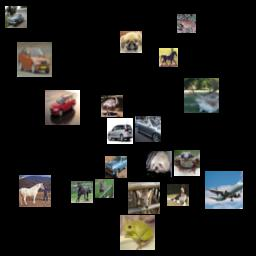airplane: (205, 171, 243, 209)
automobile: (45, 90, 80, 125), (17, 42, 52, 77), (107, 118, 133, 144), (135, 116, 161, 142), (105, 156, 127, 178), (5, 6, 27, 28)
bird: (101, 95, 123, 117)
deer: (184, 78, 219, 113), (128, 182, 160, 214), (95, 179, 114, 198)
dog: (146, 151, 172, 177), (167, 184, 189, 206), (120, 31, 142, 53)
frog: (120, 215, 155, 250), (174, 150, 200, 176), (177, 14, 196, 33)
